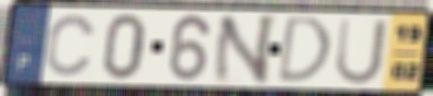0: (100, 12, 150, 82)
6: (167, 12, 213, 83)
C: (43, 12, 99, 79)
D: (274, 15, 334, 86)
N: (210, 13, 281, 86)
U: (333, 16, 390, 87)
